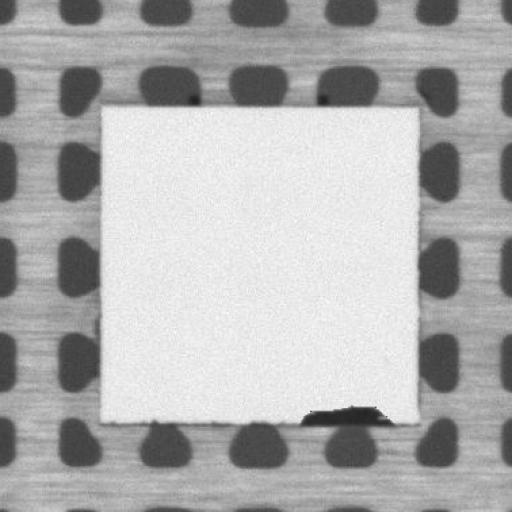DIE_BROKEN: (287, 402, 398, 430)
